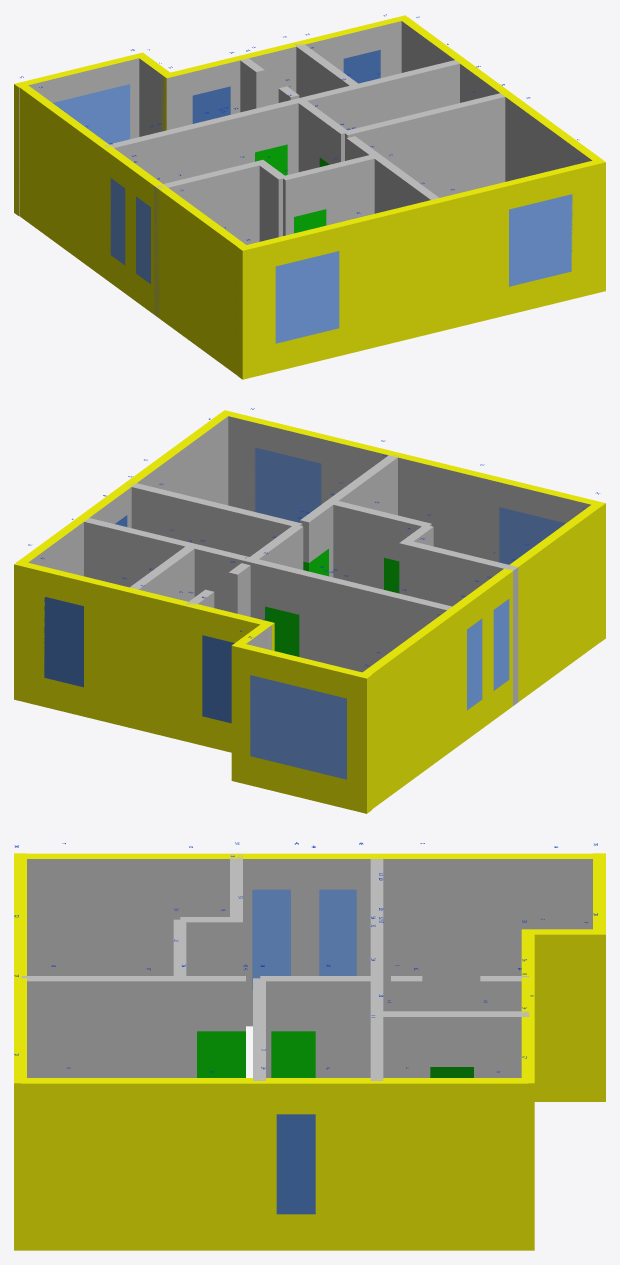
File: 2_objects_wall_coordinates_inverted_3d.obj
3 views of the same model, one above another, from view 1: azimuth 30°, elevation 25°; view 2: azimuth 150°, elevation 25°; view 3: azimuth 270°, elevation 25° (orthographic). The views are drawn at different scales.
Parts seen in each view (by area): view 1: Building_Outline_Merged, Internal_Wall_wall_junction_18_to_13_right, Internal_Wall_wall_junction_3_to_53_right, Internal_window_window_2, Internal_window_window_3, Internal_Wall_wall_junction_11_to_19_left, Internal_Wall_wall_junction_14_to_edge_left, Internal_Wall_wall_door_2_left_23_to_17, Internal_window_window_1, Internal_Wall_wall_junction_57_to_58_right, Fill_Above_window_1, Internal_Wall_wall_junction_10_to_17_down (+27 smaller); view 2: Building_Outline_Merged, Internal_Wall_wall_junction_14_to_edge_left, Internal_window_window_1, Internal_Wall_wall_junction_18_to_13_right, Internal_Wall_wall_junction_3_to_53_right, Internal_Wall_wall_junction_11_to_19_left, Internal_window_window_3, Internal_Wall_wall_door_2_left_23_to_17, Internal_Wall_wall_junction_57_to_58_right, External_window_window_4, Fill_Above_window_1, Fill_Below_window_1 (+25 smaller); view 3: Building_Outline_Merged, Internal_Wall_wall_junction_10_to_17_down, Internal_Wall_wall_door_4_bottom_47_to_20, External_window_window_8, Internal_window_window_7, Internal_window_window_6, Internal_Wall_wall_door_5_bottom_49_to_15, Internal_Wall_wall_door_5_top_41_to_11, Fill_Above_door_1, Internal_Wall_wall_junction_3_to_8_up, Fill_Above_door_4, Fill_Above_door_5 (+15 smaller).
Part boxes in pixels (x1,y1,x2,y2): Building_Outline_Merged: (14,15,605,379); Internal_Wall_wall_junction_18_to_13_right: (345,93,508,197); Internal_Wall_wall_junction_3_to_53_right: (154,160,267,318); Internal_window_window_2: (275,251,339,343); Internal_window_window_3: (509,194,572,286); Internal_Wall_wall_junction_11_to_19_left: (354,60,459,127); Internal_Wall_wall_junction_14_to_edge_left: (104,112,241,183); Internal_Wall_wall_door_2_left_23_to_17: (321,154,374,225); Internal_window_window_1: (53,84,130,143); Internal_Wall_wall_junction_57_to_58_right: (165,118,222,183); Fill_Above_window_1: (33,57,130,102); Internal_Wall_wall_junction_10_to_17_down: (372,154,438,213); Building_Outline_Merged: (14,410,605,813); Internal_Wall_wall_junction_14_to_edge_left: (300,570,451,672); Internal_window_window_1: (250,675,346,779); Internal_Wall_wall_junction_18_to_13_right: (127,483,302,556); Internal_Wall_wall_junction_3_to_53_right: (399,540,518,705); Internal_Wall_wall_junction_11_to_19_left: (84,518,194,587); Internal_window_window_3: (254,447,321,522); Internal_Wall_wall_door_2_left_23_to_17: (331,500,388,589); Internal_Wall_wall_junction_57_to_58_right: (333,581,397,671); External_window_window_4: (44,597,83,687); Fill_Above_window_1: (250,646,351,698); Fill_Below_window_1: (250,756,346,808); Building_Outline_Merged: (14,853,605,1250); Internal_Wall_wall_junction_10_to_17_down: (21,976,180,1077); Internal_Wall_wall_door_4_bottom_47_to_20: (315,976,376,1077); External_window_window_8: (276,1114,315,1214); Internal_window_window_7: (252,889,290,989); Internal_window_window_6: (319,889,356,975); Internal_Wall_wall_door_5_bottom_49_to_15: (474,1011,529,1077); Internal_Wall_wall_door_5_top_41_to_11: (379,1011,430,1077); Fill_Above_door_1: (197,976,245,1031); Internal_Wall_wall_junction_3_to_8_up: (180,917,233,975); Fill_Above_door_4: (271,976,315,1031); Fill_Above_door_5: (430,1011,473,1066).
Size of the model in its own units: 8.87 by 3.2 by 9.63.
